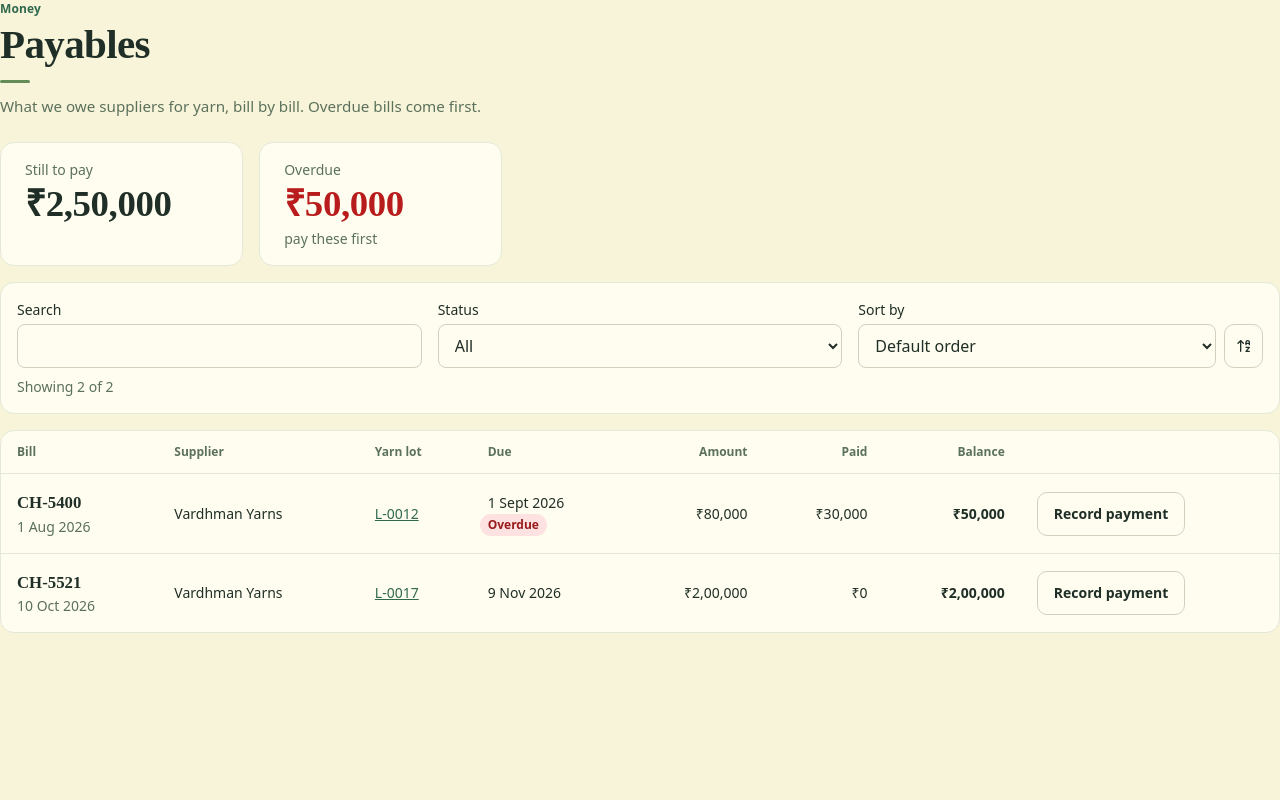
Payables › refuses a payment above the balance
Click the button named "record payment for bill CH-5400".
click(1111, 514)  # box [1037,492,1185,536]
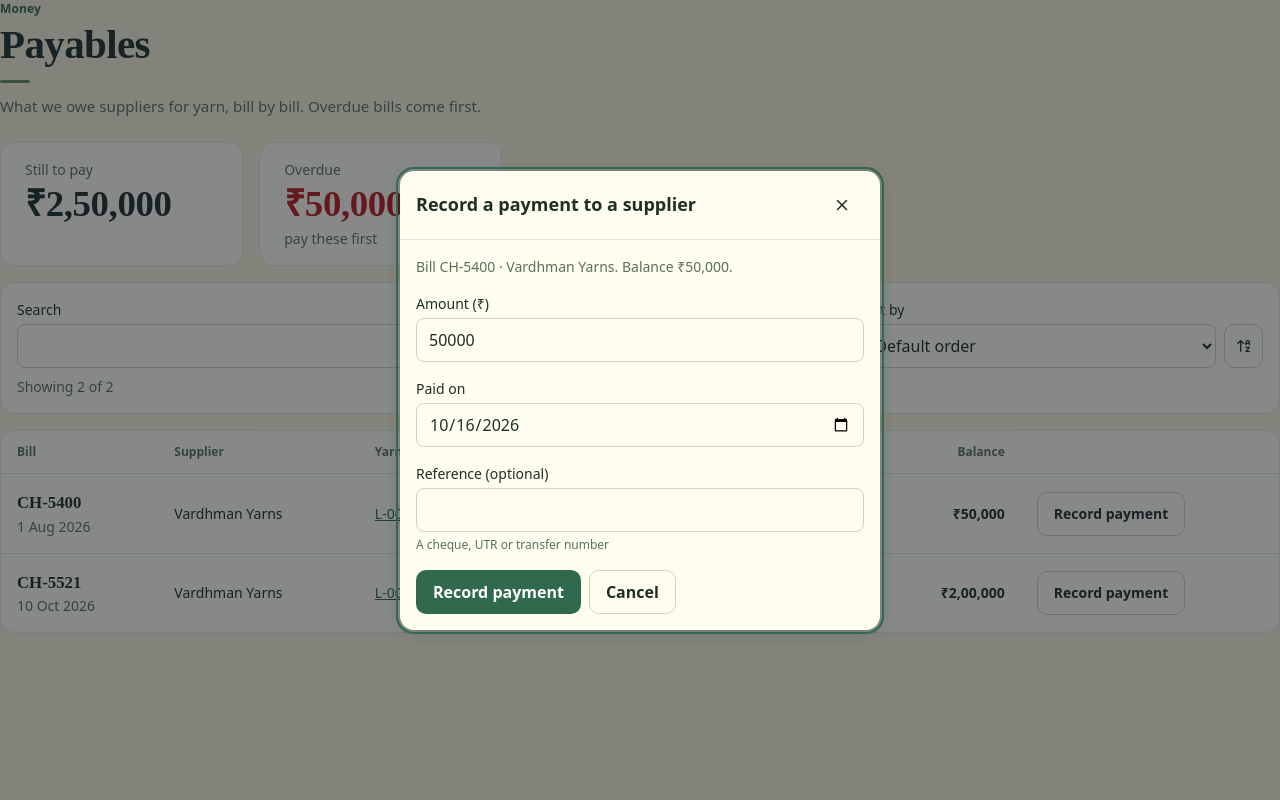
Replace the text in the field labelled "Amount (₹)" with "60000" at (640, 340), box [416,318,864,362]
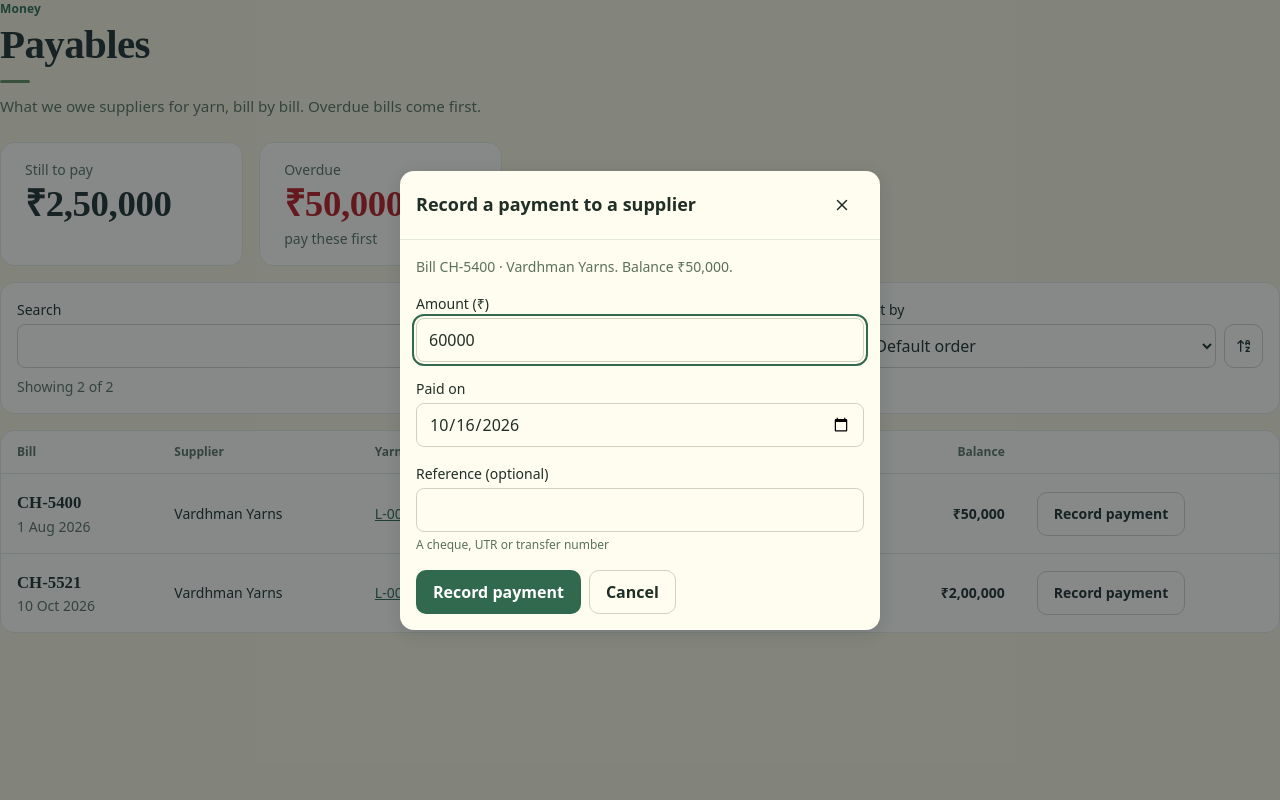
Click the button "Record payment".
click(498, 592)  # box [416,570,581,614]
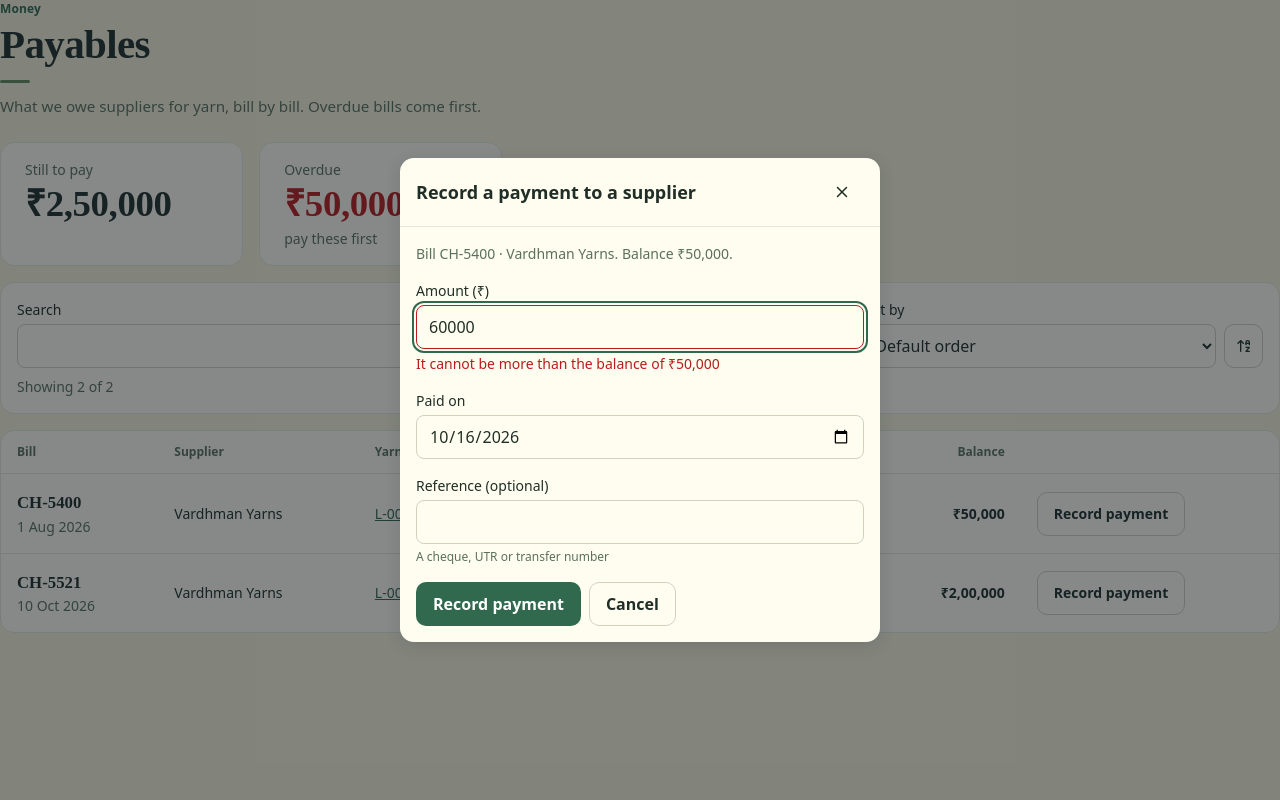
Expected: the text "It cannot be more than the balance of ₹50,000" is shown, [416,354,720,373]
